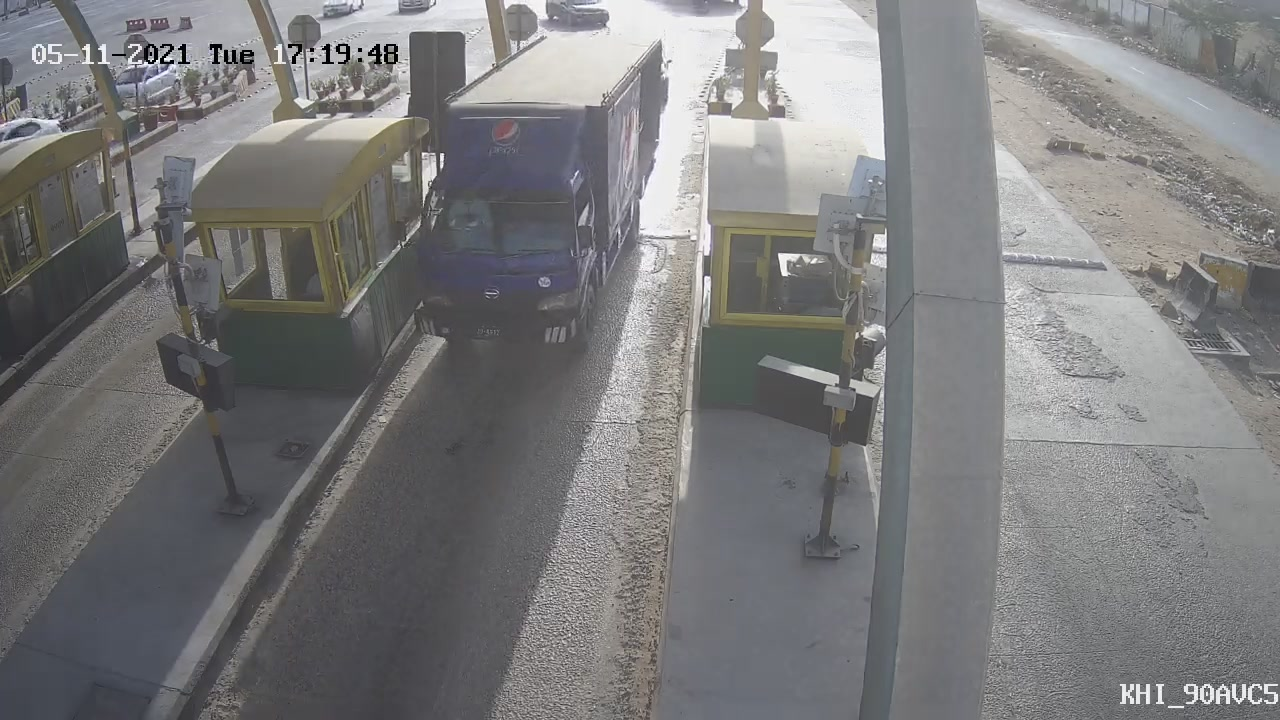F5: (370, 22, 689, 379)
